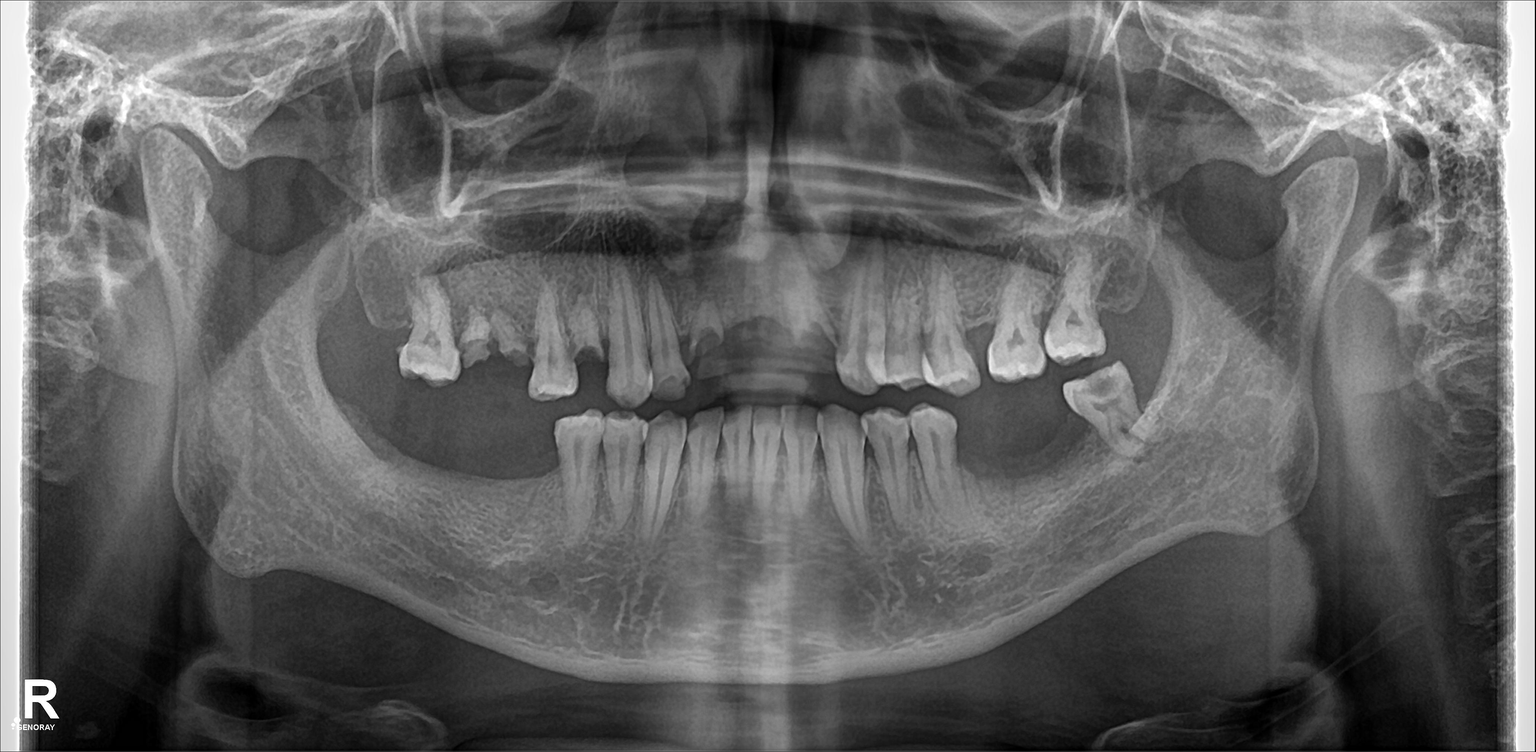Missing Tooth: (1045, 413, 1098, 517), (788, 285, 839, 389), (724, 294, 775, 381), (494, 430, 538, 530), (313, 396, 364, 474), (445, 419, 478, 536), (404, 411, 438, 521), (1006, 419, 1043, 506), (1114, 270, 1153, 352), (968, 411, 1001, 506), (337, 272, 369, 358), (369, 404, 402, 484), (376, 277, 408, 355)
Retained Root: (454, 302, 493, 383), (564, 300, 602, 378), (685, 302, 712, 383), (507, 303, 529, 386)
